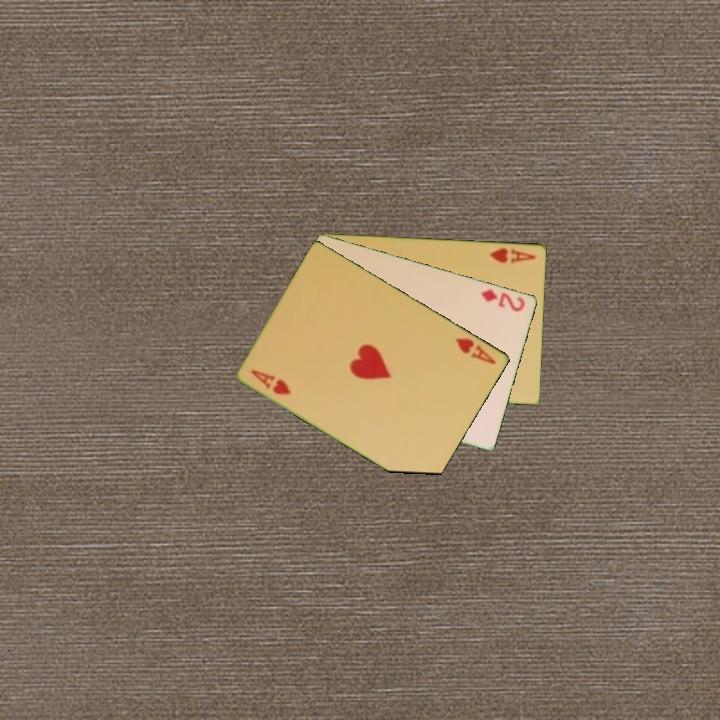2d: (478, 285, 528, 314)
Ah: (452, 334, 499, 367), (248, 366, 295, 398), (486, 244, 539, 266)
